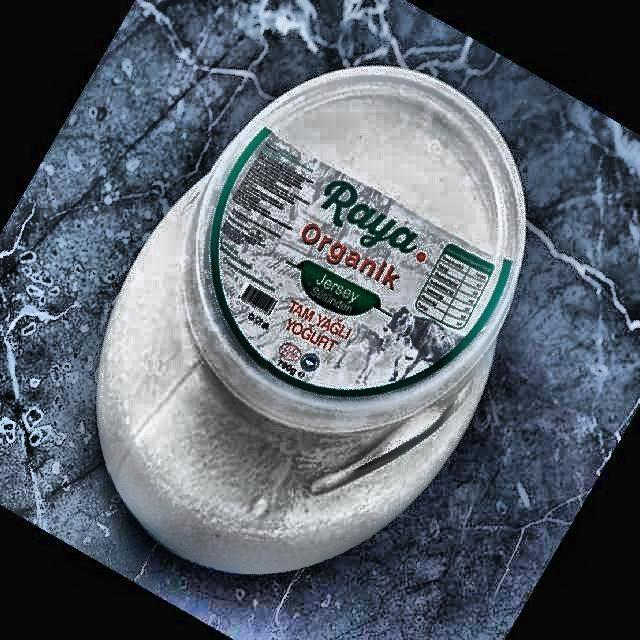plastic: (98, 66, 522, 573)
